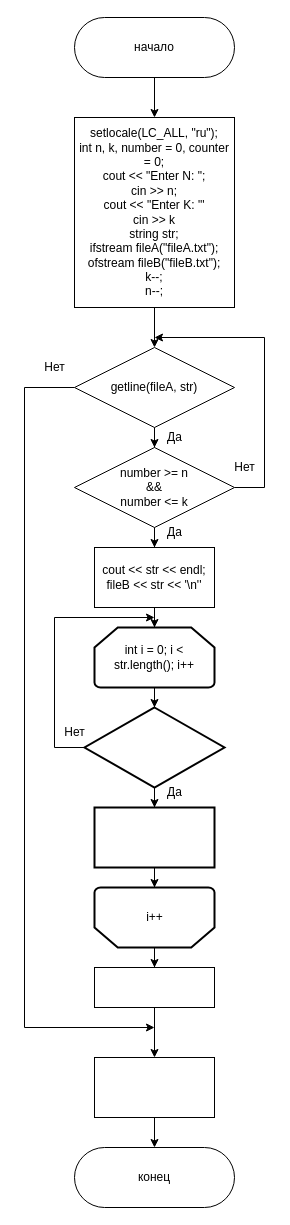
Image size: 290x1225. Some labels were removed from this diagram. Here are the shapes that lost their labels. From the top down, the centre of each, then its label:
the point at 154,747: str[j] in "qwrtyplkjhgfdszxcvbnm"
the point at 154,837: counter++;
the point at 154,987: number++
the point at 154,1087: cout << "Amount of consonant: << counter;
